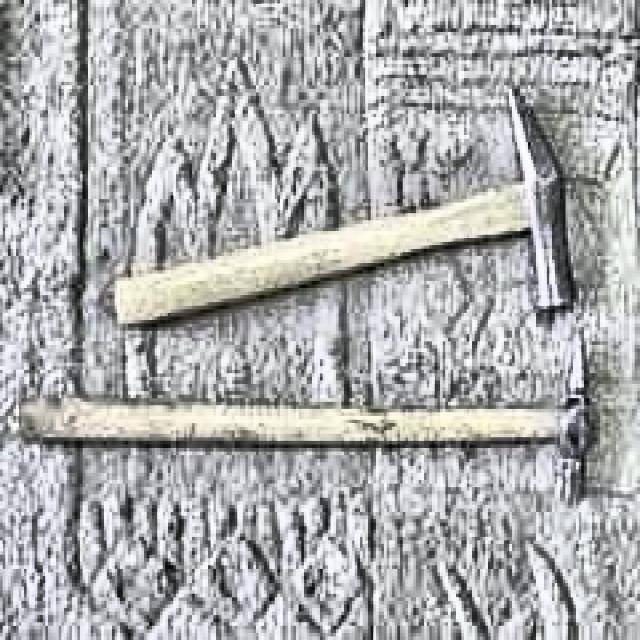hammer: (117, 81, 573, 345), (16, 340, 596, 495)
